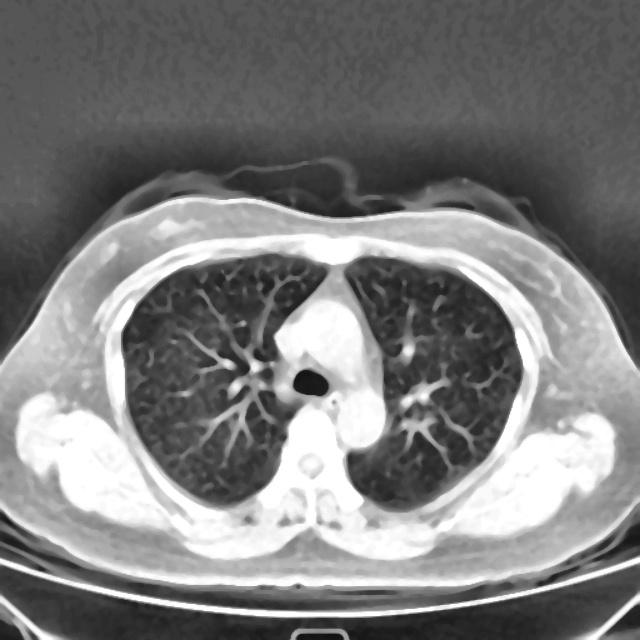covid: (1, 165, 638, 600)
